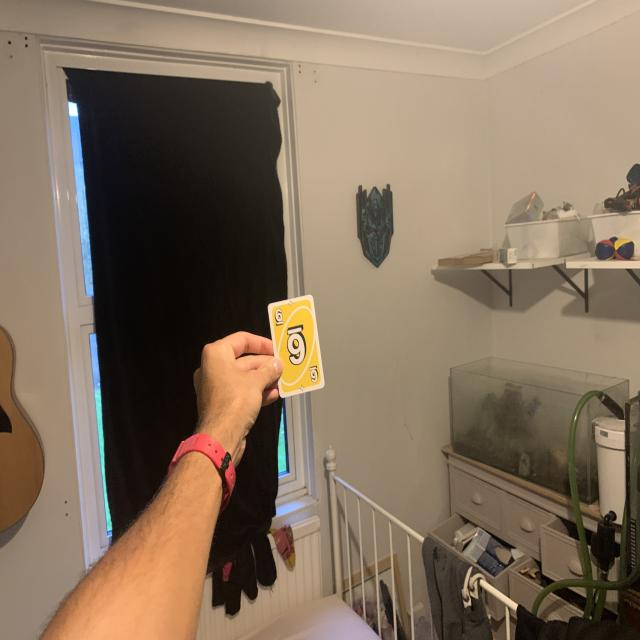lyellow-6: (270, 304, 288, 327)
